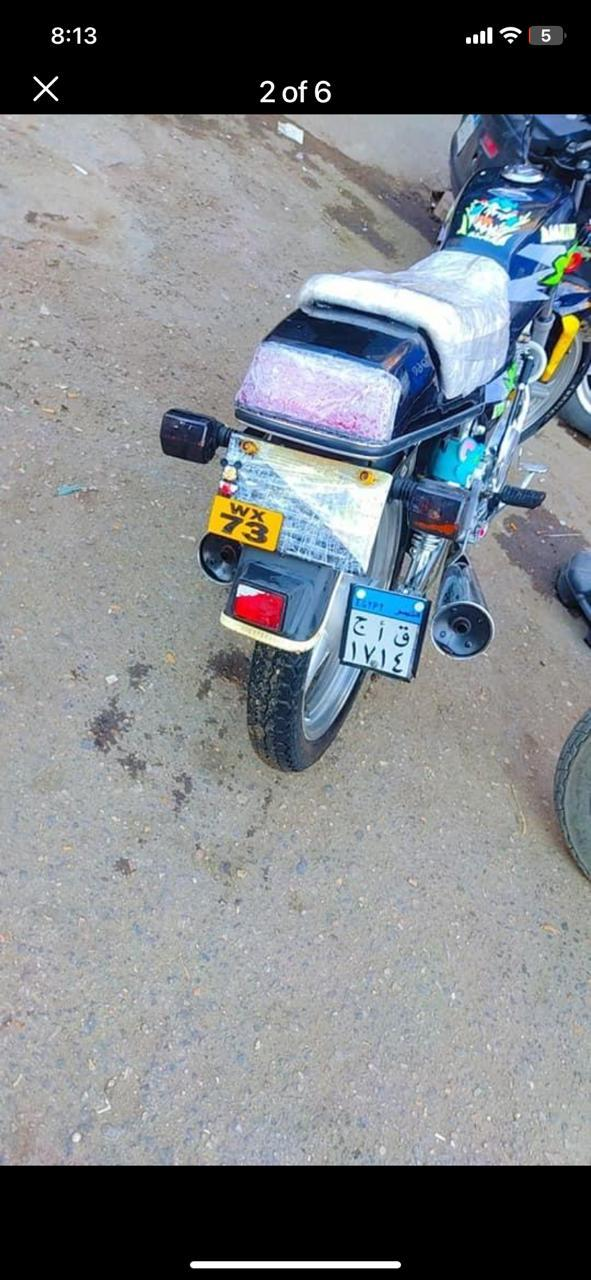License Plate: (347, 583, 419, 682)
